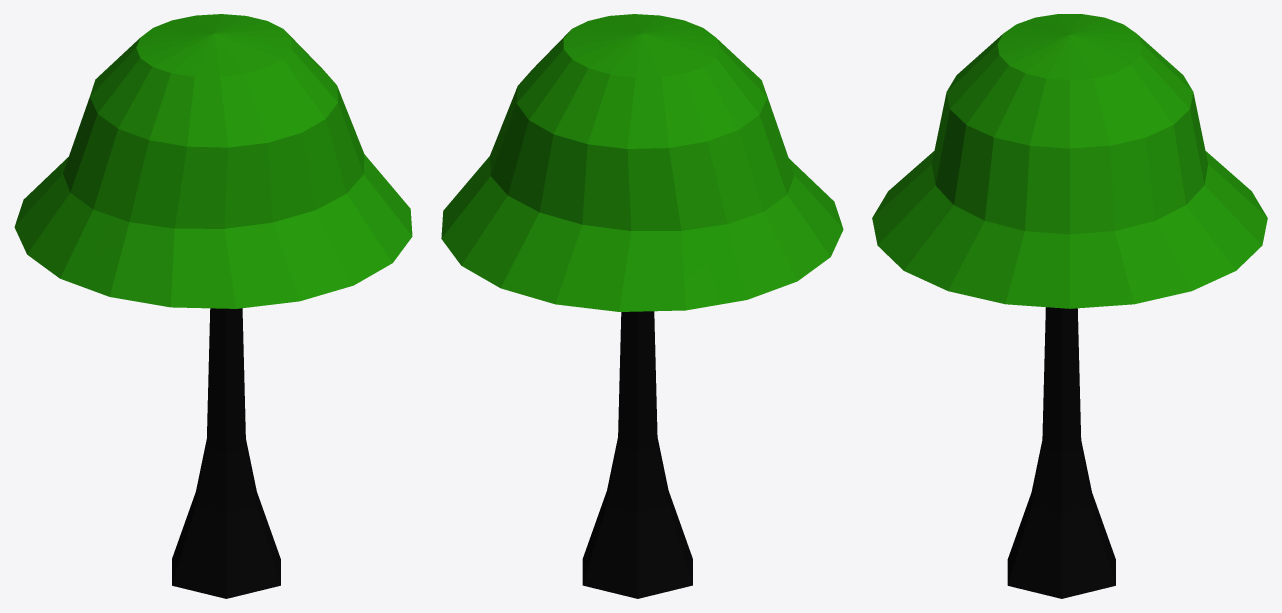
The model's file is Mushroom02_KW.fbx.
3 renders of one model, left to right at view 1: azimuth 30°, elevation 25°; view 2: azimuth 150°, elevation 25°; view 3: azimuth 270°, elevation 25°, orthographic.
Visible parts, largest first — view 1: Mushroom02_KW; view 2: Mushroom02_KW; view 3: Mushroom02_KW.
Part boxes in pixels (<box>): Mushroom02_KW: <box>14,14,412,598</box>; Mushroom02_KW: <box>441,14,843,598</box>; Mushroom02_KW: <box>872,14,1267,598</box>.
Size of the model in its own units: 21.33 by 31.86 by 21.4.
